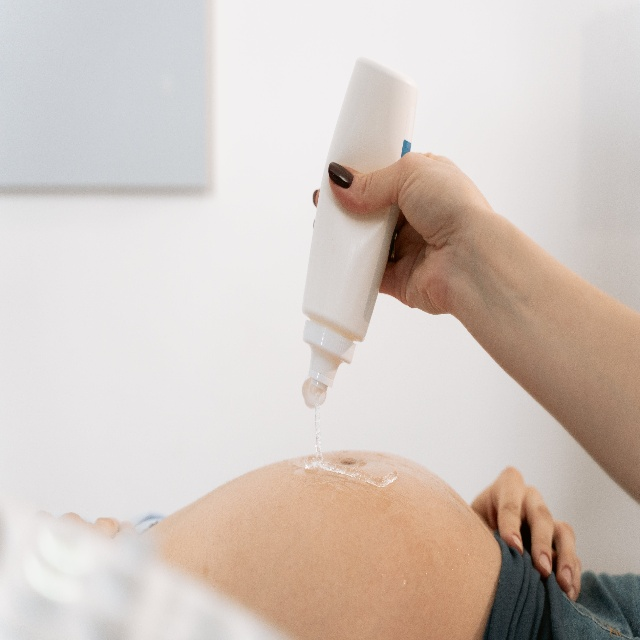Sin_guantes: (310, 144, 493, 328), (470, 466, 582, 605)
